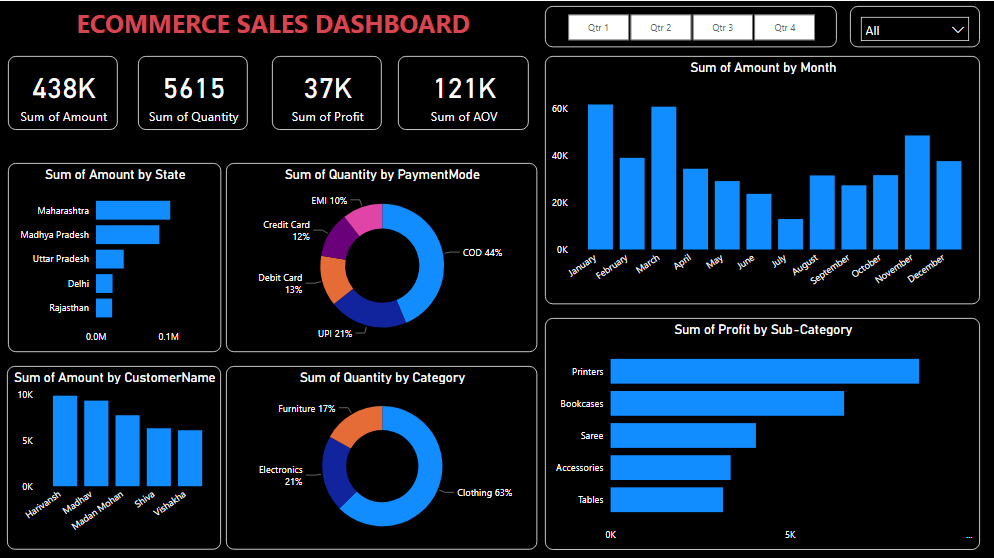

This screenshot's page, from the dashboard's own definition file:
{"tool":"powerbi","page":{"name":"Page 1","canvas":[1280,720],"ordinal":0},"visuals":[{"type":"textbox","box":[10.3,0,679.8,59.1],"z":0},{"type":"columnChart","fields":{"Category":["Orders.Order Date.Variation.Date Hierarchy.Month"],"Y":["Sum(Details.Amount)"]},"box":[700.4,70.7,559,318.7],"z":1},{"type":"barChart","fields":{"Category":["Details.Sub-Category"],"Y":["Sum(Details.Profit)"]},"box":[700.4,407.4,559,298.2],"z":2},{"type":"donutChart","fields":{"Category":["Details.Category"],"Y":["Sum(Details.Quantity)"]},"box":[290.4,469.1,399.7,236.5],"z":3},{"type":"donutChart","fields":{"Category":["Details.PaymentMode"],"Y":["Sum(Details.Quantity)"]},"box":[290.4,208.2,399.7,242.9],"z":4},{"type":"card","fields":{"Values":["Sum(Details.Amount)"]},"box":[10.3,70.7,141.4,95.1],"z":5},{"type":"card","fields":{"Values":["Sum(Details.Quantity)"]},"box":[177.3,70.7,141.4,95.1],"z":6},{"type":"card","fields":{"Values":["Sum(Details.Profit)"]},"box":[349.6,70.7,141.4,95.1],"z":7},{"type":"card","fields":{"Values":["Sum(Details.AOV)"]},"box":[511.5,70.7,168.4,95.1],"z":8},{"type":"barChart","fields":{"Category":["Orders.State"],"Y":["Sum(Details.Amount)"]},"box":[10.3,208.2,273.7,242.9],"z":9},{"type":"columnChart","fields":{"Category":["Orders.CustomerName"],"Y":["Sum(Details.Amount)"]},"box":[9,469.1,275,236.5],"z":10},{"type":"slicer","fields":{"Values":["Orders.Order Date.Variation.Date Hierarchy.Quarter"]},"box":[700.4,6.4,375.3,52.7],"z":11},{"type":"slicer","fields":{"Values":["Orders.State"]},"box":[1092.4,6.4,167.1,52.7],"z":12}]}

Visuals, with their boxes in screenshot pixels (x1, y1, x2, y2), scaled from the page's 1280x720 canvas onto the 994x558 screenshot:
textbox: box=[8, 0, 536, 46]
columnChart - Orders.Order Date.Variation.Date Hierarchy.Month x Sum(Details.Amount): box=[544, 55, 978, 302]
barChart - Details.Sub-Category x Sum(Details.Profit): box=[544, 316, 978, 547]
donutChart - Details.Category x Sum(Details.Quantity): box=[226, 364, 536, 547]
donutChart - Details.PaymentMode x Sum(Details.Quantity): box=[226, 161, 536, 350]
card - Sum(Details.Amount): box=[8, 55, 118, 128]
card - Sum(Details.Quantity): box=[138, 55, 247, 128]
card - Sum(Details.Profit): box=[271, 55, 381, 128]
card - Sum(Details.AOV): box=[397, 55, 528, 128]
barChart - Orders.State x Sum(Details.Amount): box=[8, 161, 221, 350]
columnChart - Orders.CustomerName x Sum(Details.Amount): box=[7, 364, 221, 547]
slicer - Orders.Order Date.Variation.Date Hierarchy.Quarter: box=[544, 5, 835, 46]
slicer - Orders.State: box=[848, 5, 978, 46]
